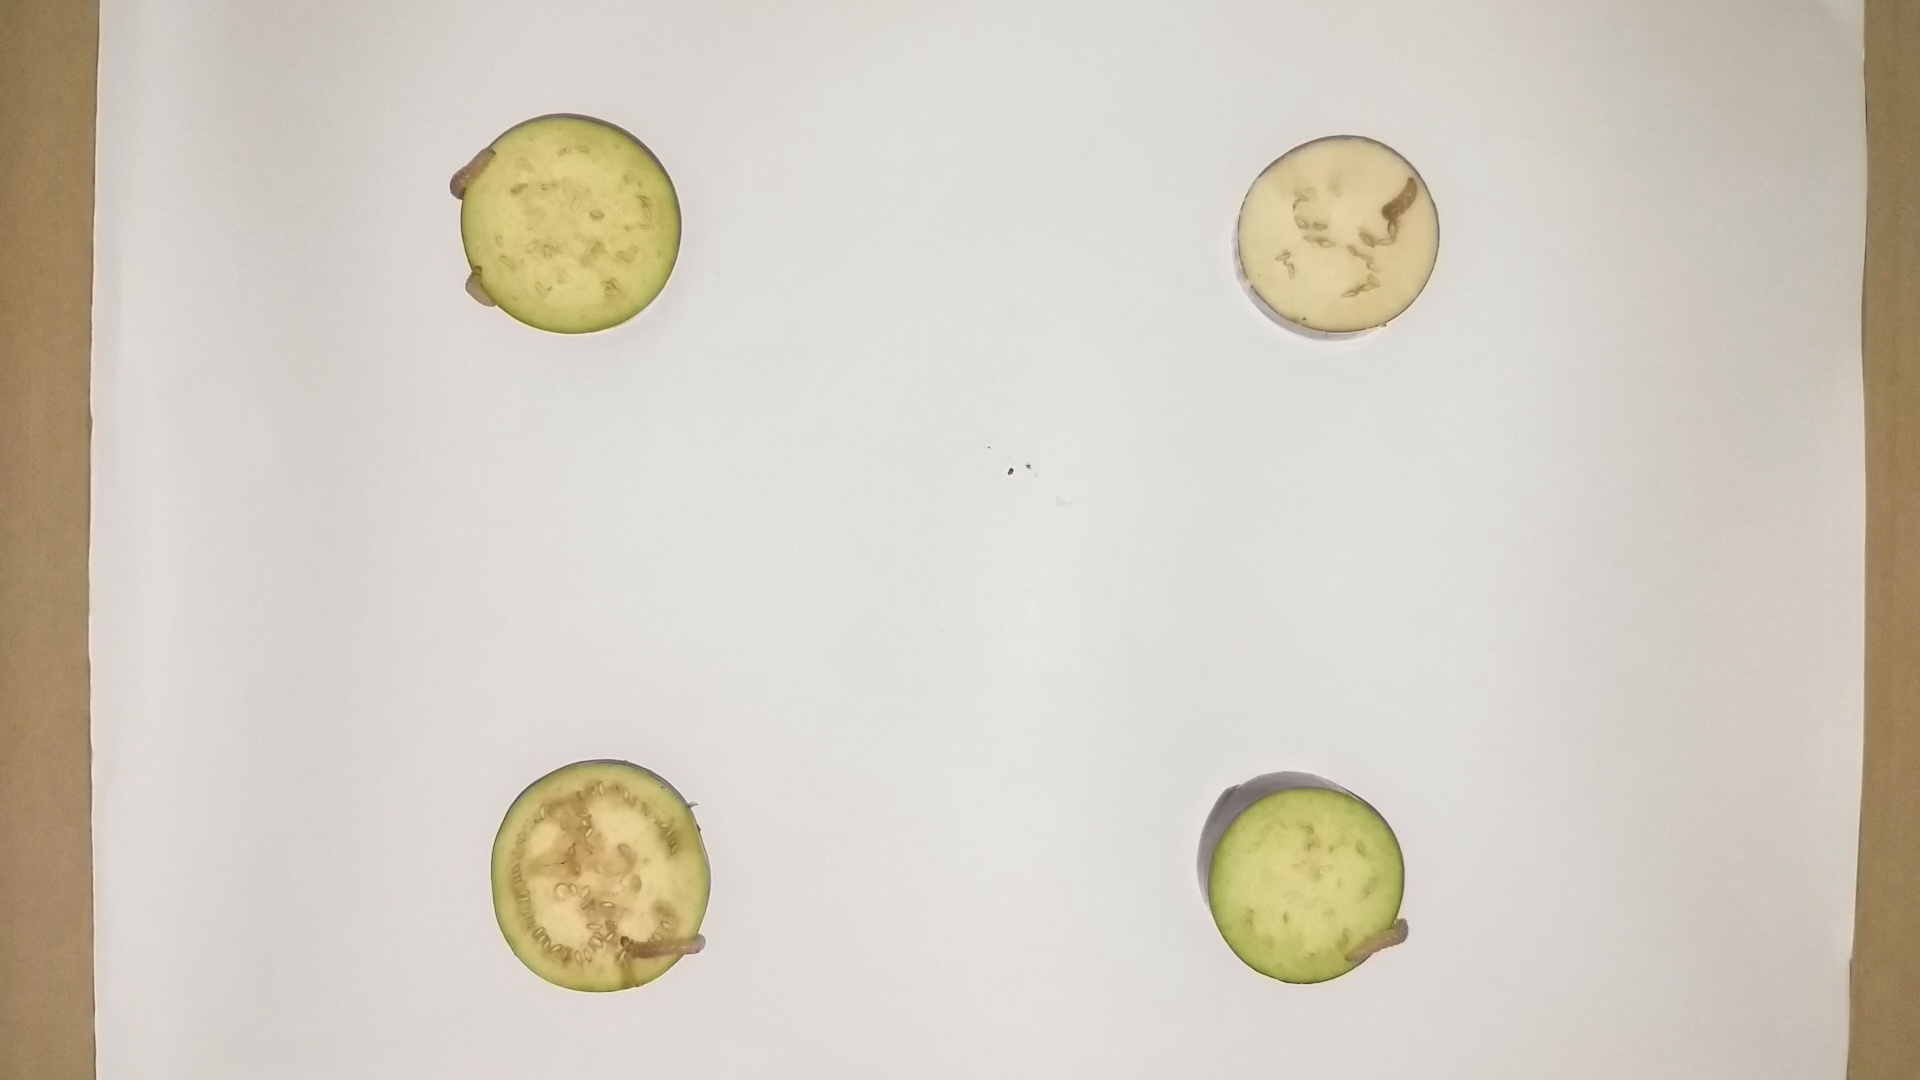efsb: (616, 920, 711, 969), (1344, 916, 1411, 972), (443, 138, 502, 200), (1374, 171, 1425, 227), (462, 255, 504, 320)
eggplant: (483, 752, 728, 1001), (451, 111, 691, 340), (1193, 760, 1412, 989), (1226, 127, 1443, 349)
